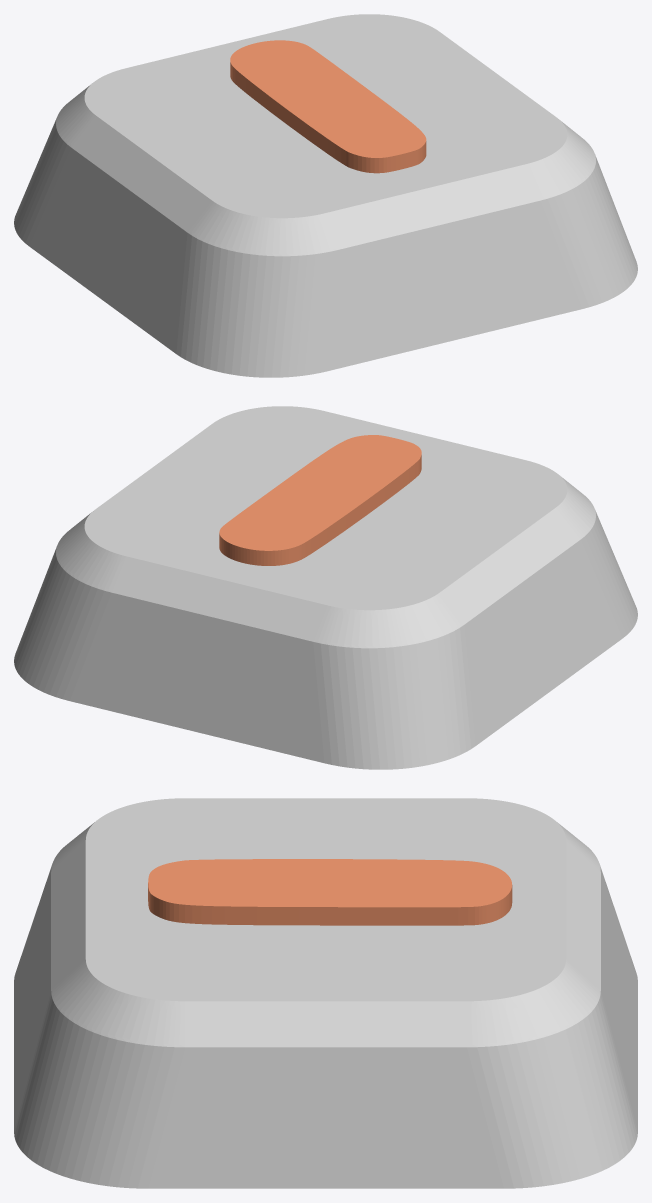
File: cap-I.glb
The picture shows the model from 3 angles, top to bottom: view 1: azimuth 30°, elevation 25°; view 2: azimuth 150°, elevation 25°; view 3: azimuth 270°, elevation 25°; orthographic projection. The views are drawn at different scales.
Visible parts, largest first — view 1: cap_0, glyph_1; view 2: cap_0, glyph_1; view 3: cap_0, glyph_1.
Part boxes in pixels (<box>): cap_0: <box>14,14,637,377</box>; glyph_1: <box>230,40,426,173</box>; cap_0: <box>14,406,637,769</box>; glyph_1: <box>219,435,421,565</box>; cap_0: <box>14,798,637,1188</box>; glyph_1: <box>148,859,512,925</box>.
Bounding box in the file's own units: 18 × 5.59 × 18.
